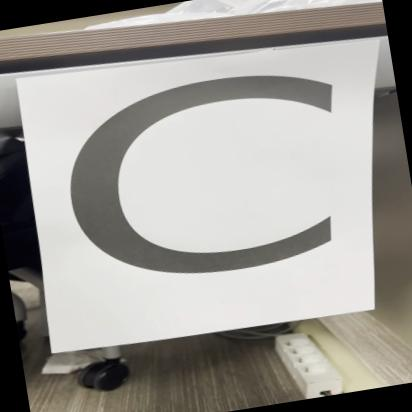seat: (36, 27, 411, 360)
